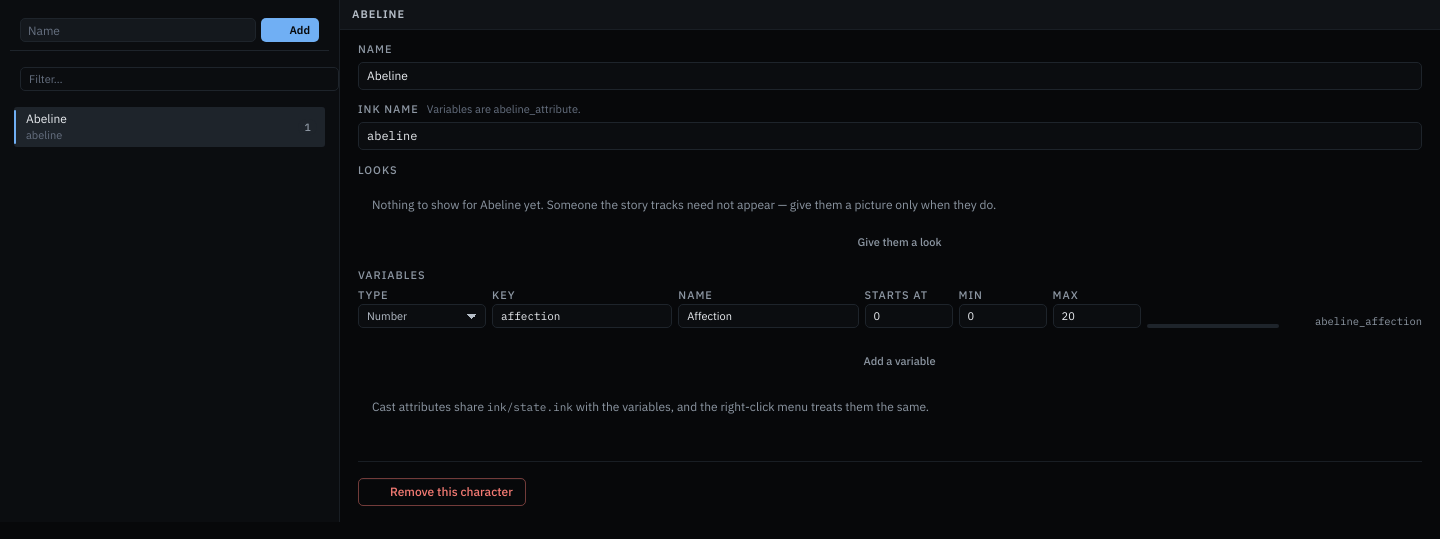
Test: CastPanel › keeps the range through a change of type and back
Select "Yes / no" in the dropdown named "Type of Affection": (422, 316) [358,304,486,328]
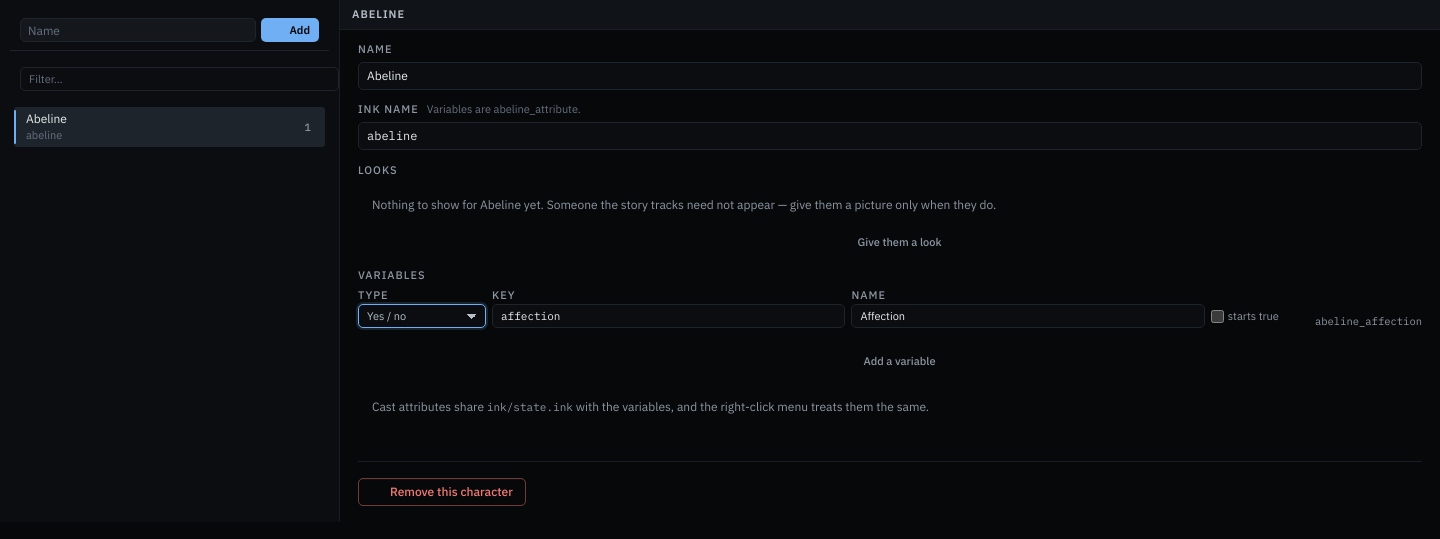
Select "Number" in the dropdown named "Type of Affection": (422, 316) [358,304,486,328]
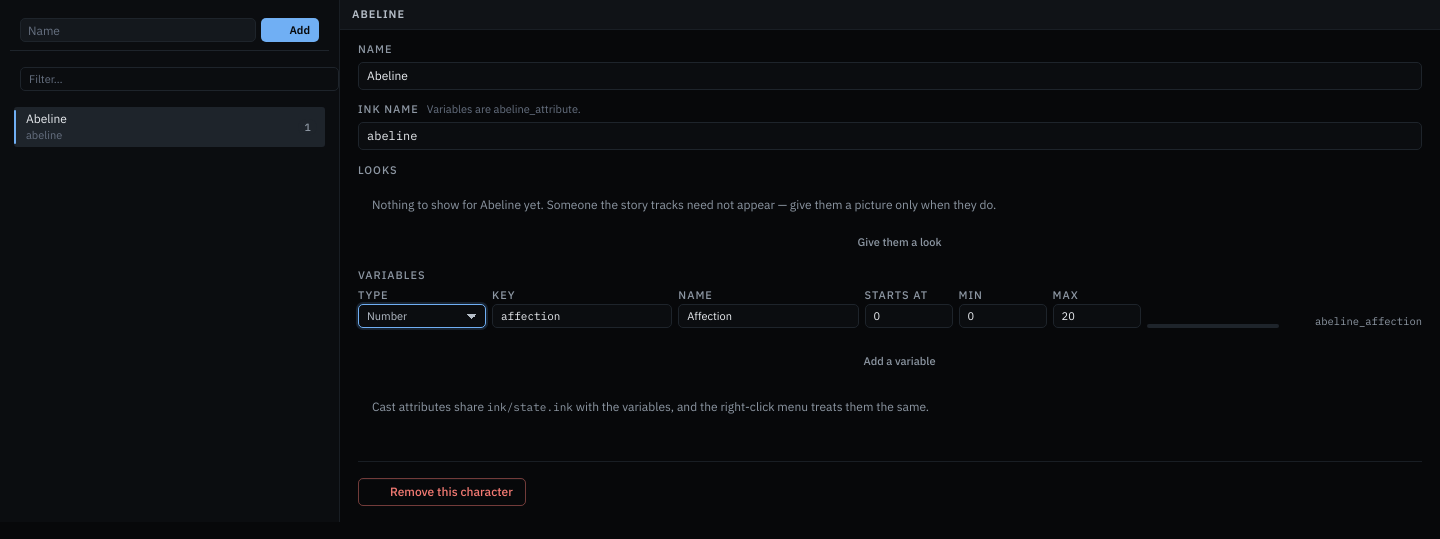
Check: the number field named "max of affection" holds "20", box [1053,304,1141,328]
